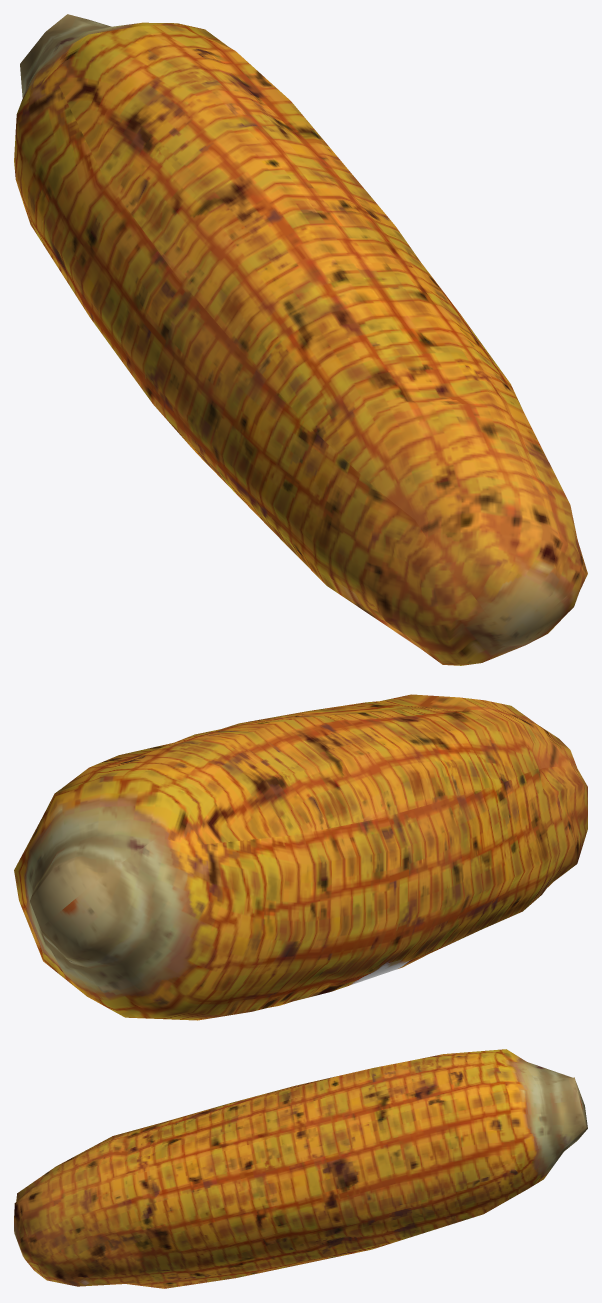
Rendered from ref_grilledcorn.glb.
The picture shows the model from 3 angles, top to bottom: view 1: azimuth 30°, elevation 25°; view 2: azimuth 150°, elevation 25°; view 3: azimuth 270°, elevation 25°; orthographic projection. The views are drawn at different scales.
Visible parts, largest first — view 1: ref_grilledcorn; view 2: ref_grilledcorn; view 3: ref_grilledcorn.
Boxes of the visible parts, x1=… form: ref_grilledcorn: x1=14, y1=14, x2=587, y2=665; ref_grilledcorn: x1=14, y1=694, x2=587, y2=1020; ref_grilledcorn: x1=14, y1=1049, x2=587, y2=1288.
Size of the model in its own units: 0.3175 by 0.4383 by 1.
1 material, 1 textured.
